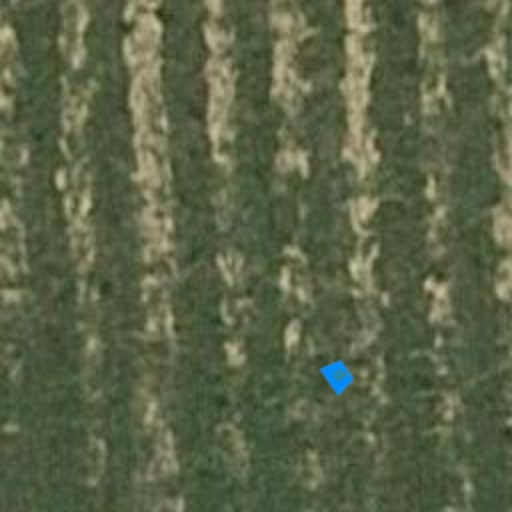trapezoid: (314, 352, 362, 400)
